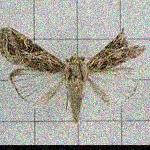Spodoptera litura: (1, 27, 146, 124)
